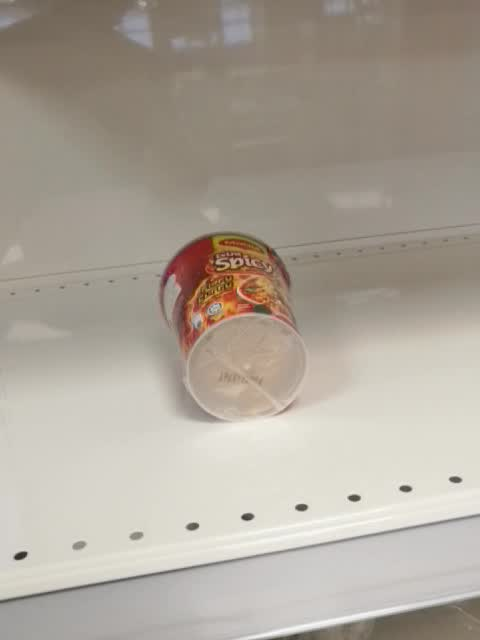maggi: (156, 231, 312, 424)
